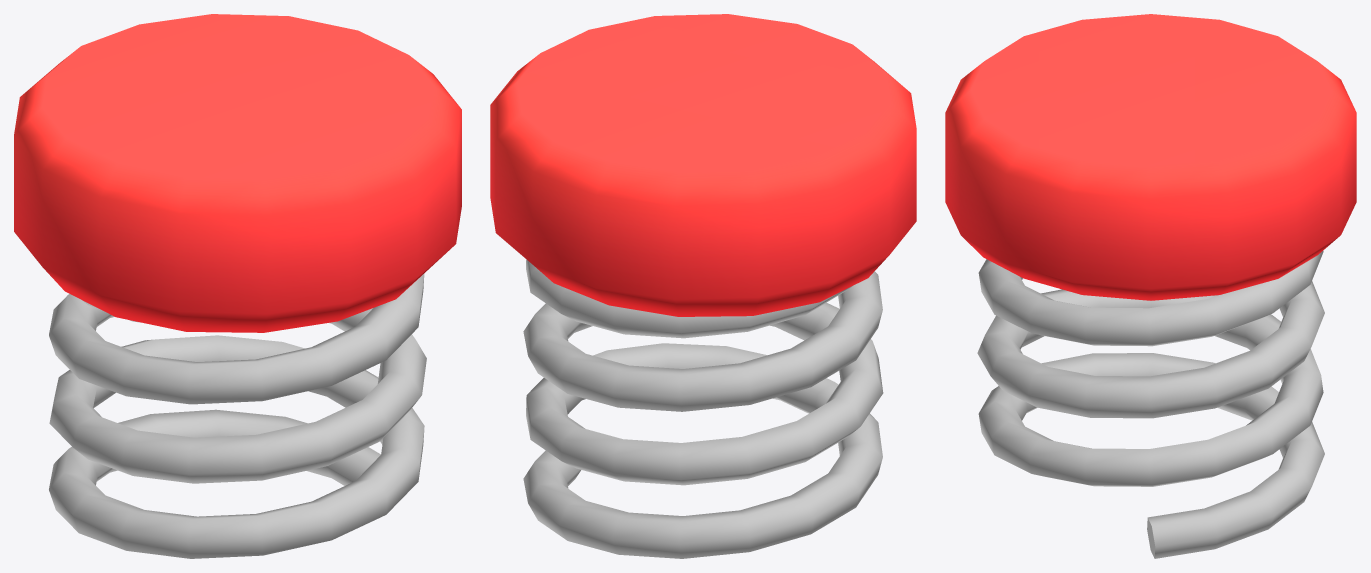
The model's file is trampoline_001.glb.
3 views of the same model, side by side, from view 1: azimuth 30°, elevation 25°; view 2: azimuth 150°, elevation 25°; view 3: azimuth 270°, elevation 25° (orthographic). The views are drawn at different scales.
Parts seen in each view (by area): view 1: trampoline_001; view 2: trampoline_001; view 3: trampoline_001.
Part boxes in pixels (box(x1,y1,x2,y2)): trampoline_001: box(14, 14, 461, 558); trampoline_001: box(490, 14, 916, 558); trampoline_001: box(945, 14, 1356, 558).
Bounding box in the file's own units: 1.32 × 1.41 × 1.32.
Materials: 1 (1 with a texture image).
